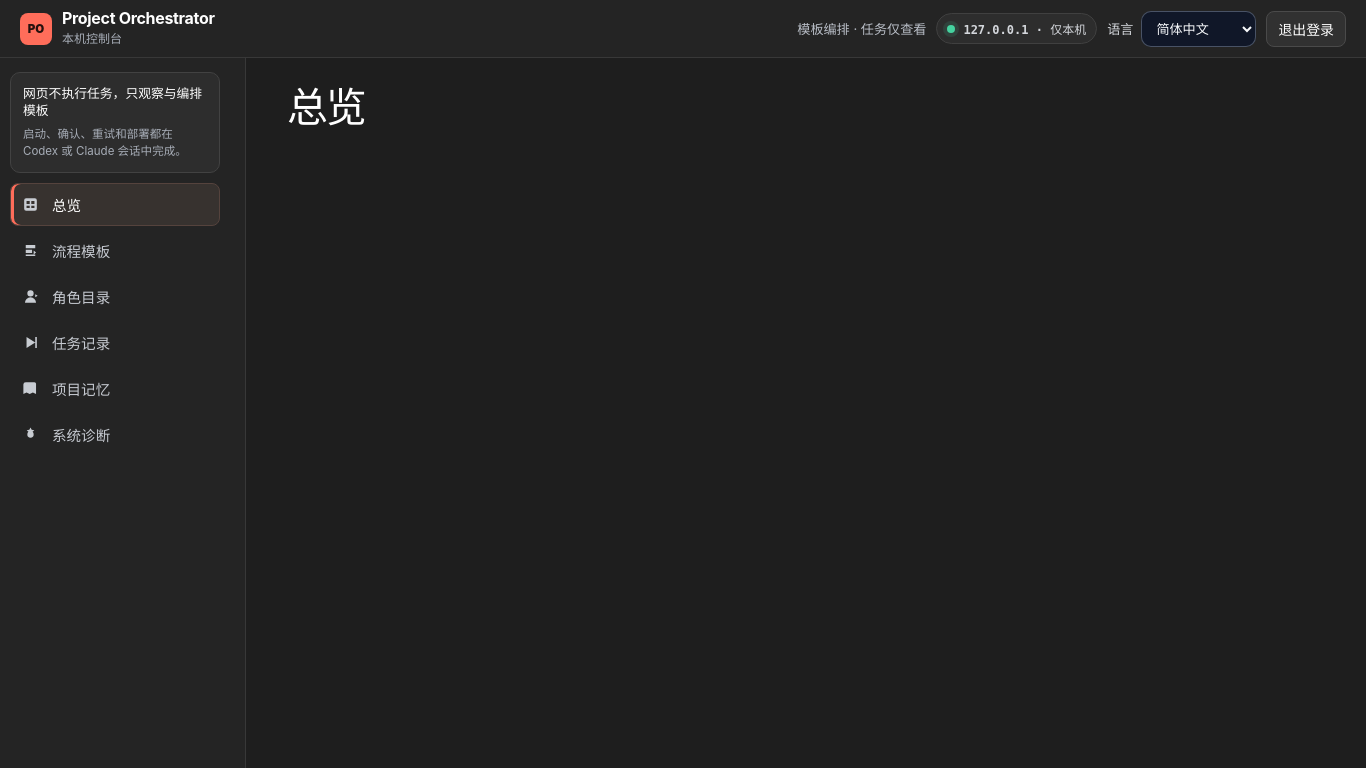
Test case: switches all shell navigation to English without duplicating Chinese labels
The width and height of the screenshot is (1366, 768).
Select "English" in the dropdown named "切换界面语言" at point(1199, 28), box [1141, 10, 1256, 46]
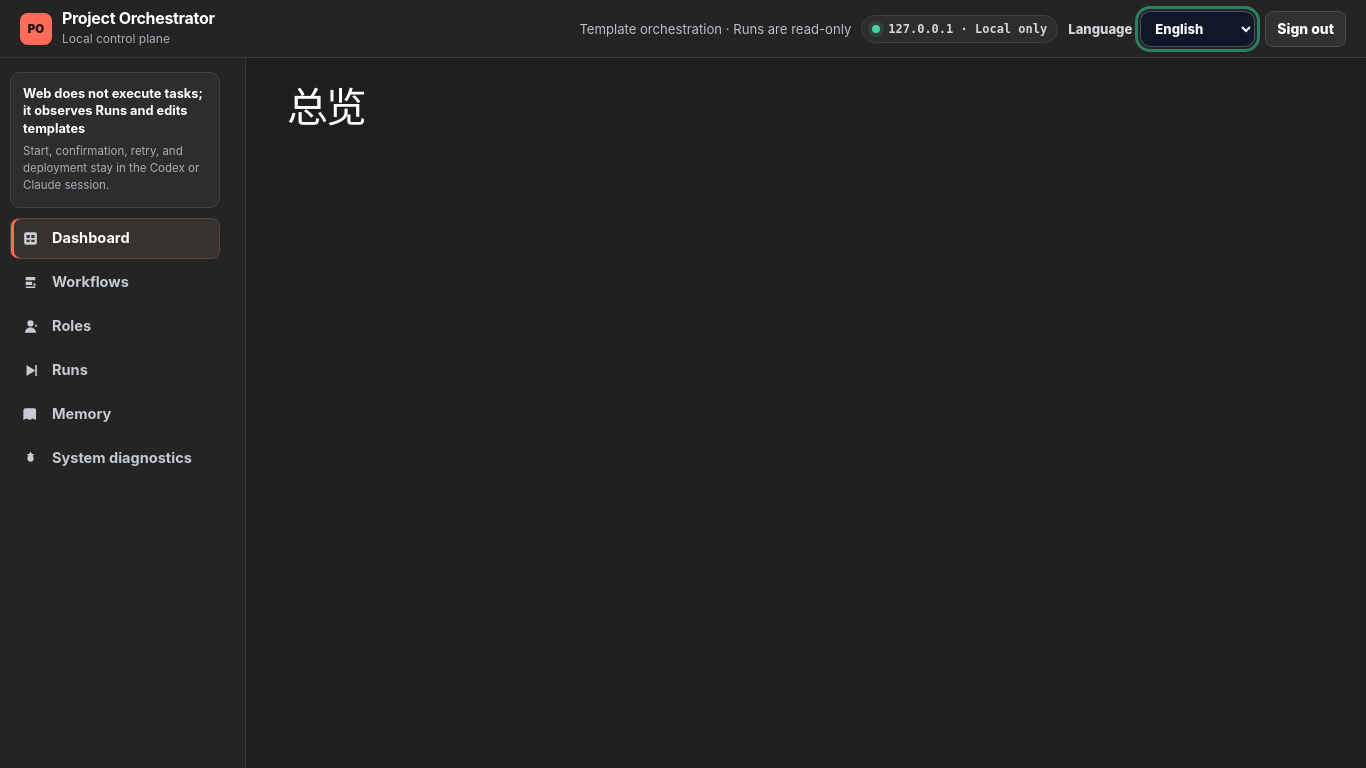
Expected: the link "Workflows" is shown, [21, 273, 129, 292]
Expected: the link "流程模板" is gone
